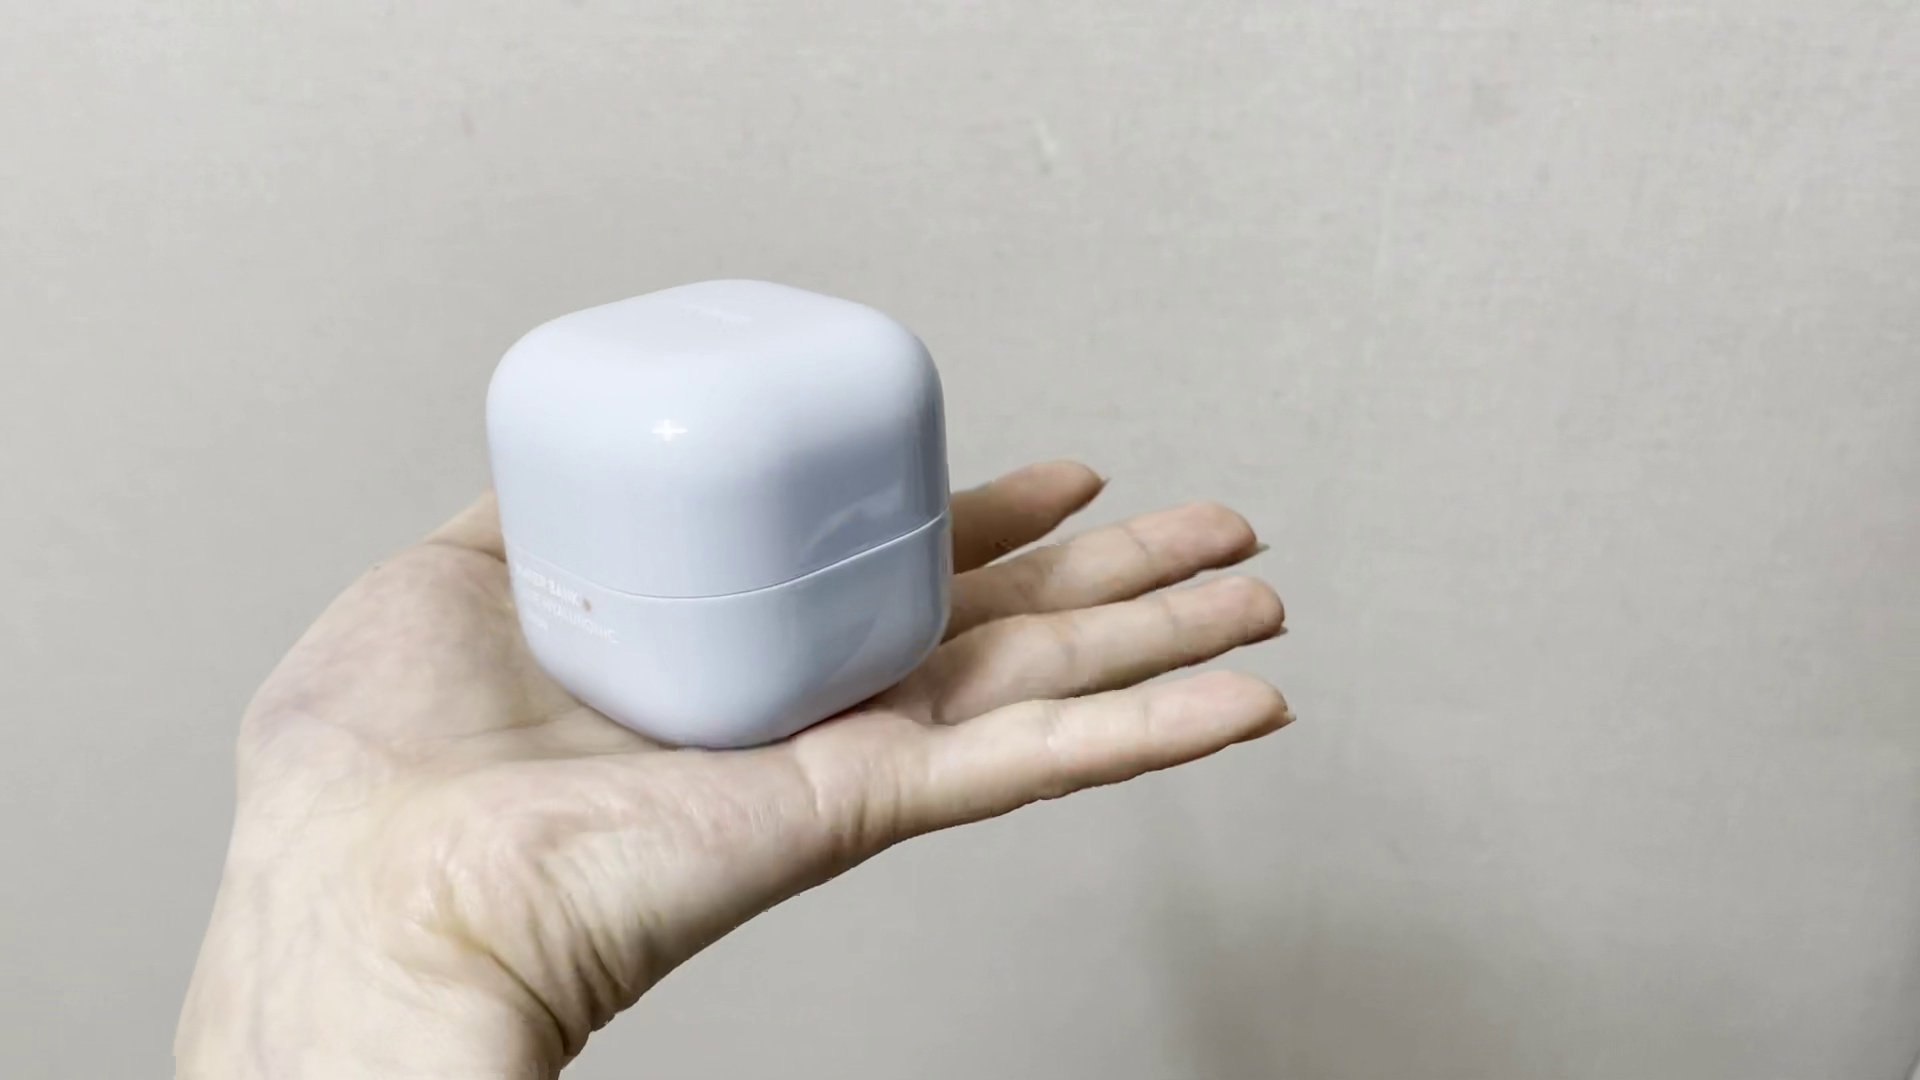cream: (487, 278, 963, 745)
